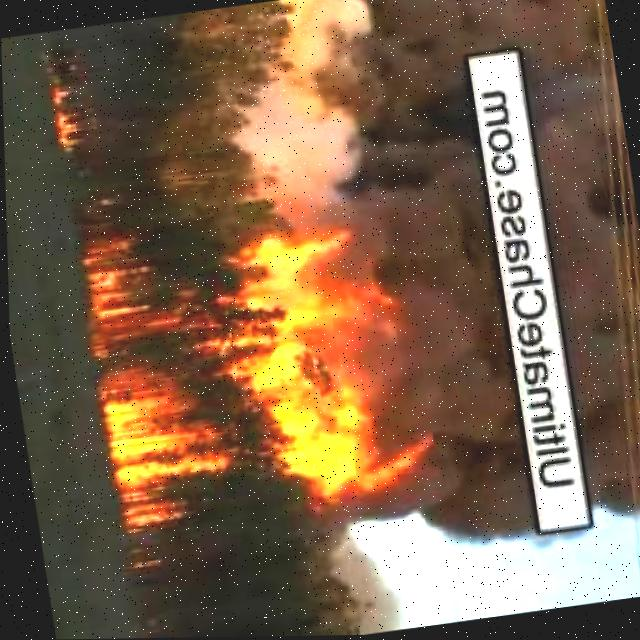Fire: (76, 202, 414, 532), (47, 71, 87, 146)
Smoke: (361, 0, 536, 552), (511, 0, 640, 530), (215, 0, 394, 214)
